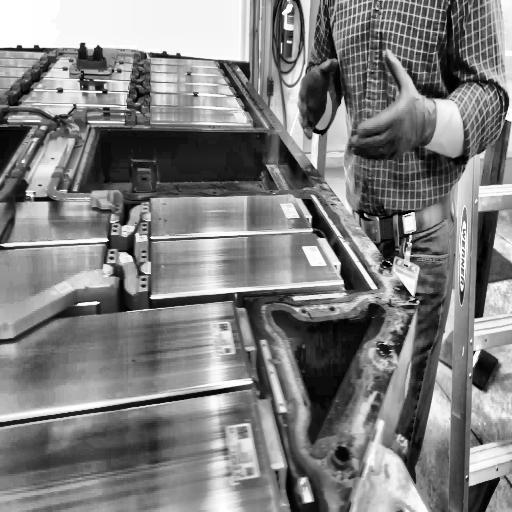battery_module: (149, 231, 344, 297), (151, 193, 314, 240)
busbar: (0, 47, 153, 342), (124, 48, 151, 123)
